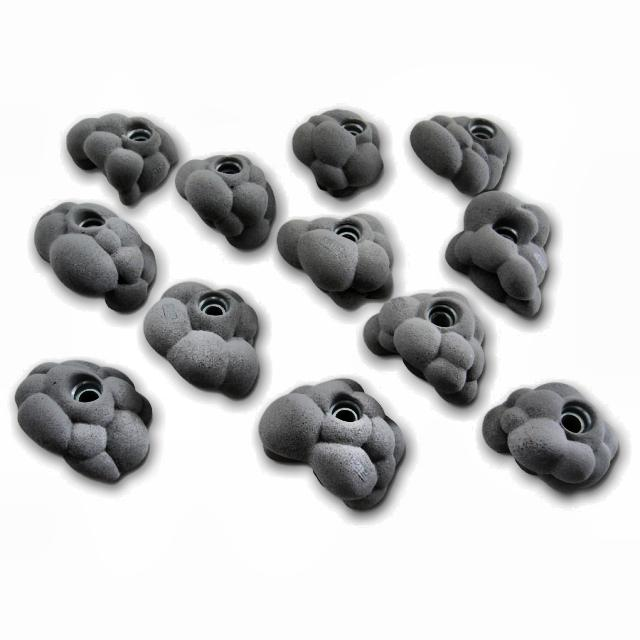Hold: (259, 382, 422, 522), (17, 357, 162, 490), (482, 385, 622, 499), (141, 279, 267, 402), (374, 292, 490, 418), (268, 202, 400, 311), (444, 190, 560, 313), (32, 202, 154, 312), (176, 145, 284, 250), (73, 106, 181, 208), (405, 108, 518, 197), (293, 98, 386, 200)
